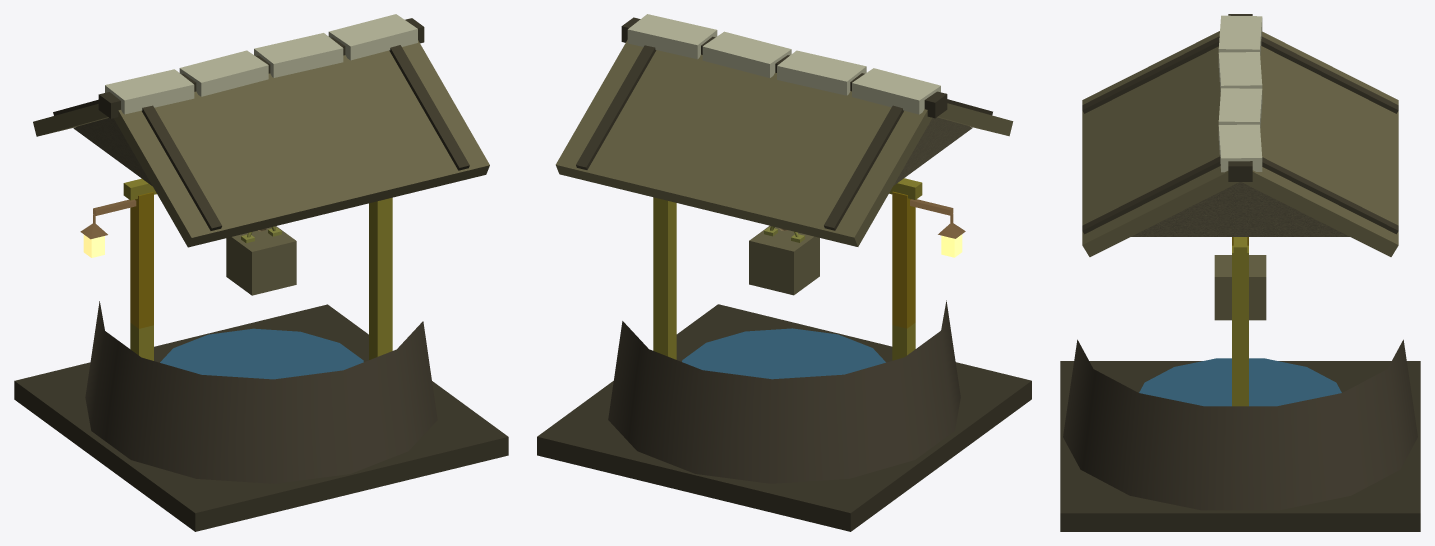
Rendered from baseline.glb.
The picture shows the model from 3 angles, left to right: view 1: azimuth 30°, elevation 25°; view 2: azimuth 150°, elevation 25°; view 3: azimuth 270°, elevation 25°; orthographic projection.
Parts seen in each view (by area): view 1: well_roof_ss, well_ring, well_base, well_water, well_bucket, well_post_e, well_post_w_hi, well_roof_cap_2, well_roof_cap_1, well_roof_cap_0, well_roof_cap_3, well_roof_rakees (+5 smaller); view 2: well_roof_sn, well_ring, well_base, well_water, well_bucket, well_post_e, well_post_w_hi, well_roof_cap_1, well_roof_cap_2, well_roof_cap_3, well_roof_cap_0, well_roof_rakeen (+5 smaller); view 3: well_ring, well_roof_sn, well_roof_ss, well_base, well_water, well_roof_ende, well_post_e, well_bucket, well_roof_cap_3, well_roof_cap_1, well_roof_cap_2, well_roof_cap_0 (+5 smaller).
Boxes of the visible parts, x1,y1,x2,y2 form: well_roof_ss: (114,40,489,247); well_ring: (85,301,437,483); well_base: (14,304,508,531); well_water: (160,328,363,379); well_bucket: (226,226,296,295); well_post_e: (369,197,392,359); well_post_w_hi: (130,192,153,328); well_roof_cap_2: (254,33,343,77); well_roof_cap_1: (179,50,268,96); well_roof_cap_0: (105,69,194,114); well_roof_cap_3: (328,14,417,60); well_roof_rakees: (389,45,469,170); well_roof_sn: (555,40,932,246); well_ring: (608,300,960,483); well_base: (537,304,1031,531); well_water: (682,328,885,379); well_bucket: (749,226,819,295); well_post_e: (653,197,676,359); well_post_w_hi: (892,191,915,328); well_roof_cap_1: (777,50,866,95); well_roof_cap_2: (702,31,791,77); well_roof_cap_3: (627,14,717,59); well_roof_cap_0: (852,68,940,114); well_roof_rakeen: (576,45,656,169); well_ring: (1063,339,1417,510); well_roof_sn: (1242,31,1398,256); well_roof_ss: (1082,31,1238,256); well_base: (1060,361,1420,531); well_water: (1139,358,1341,406); well_roof_ende: (1131,182,1349,236); well_post_e: (1232,245,1248,406); well_bucket: (1214,255,1266,320); well_roof_cap_3: (1218,124,1262,172); well_roof_cap_1: (1218,52,1262,91); well_roof_cap_2: (1218,88,1262,127); well_roof_cap_0: (1218,15,1262,55).
Size of the model in its own units: 2.23 by 2.37 by 2.1.
Materials: 5 (1 with a texture image).
